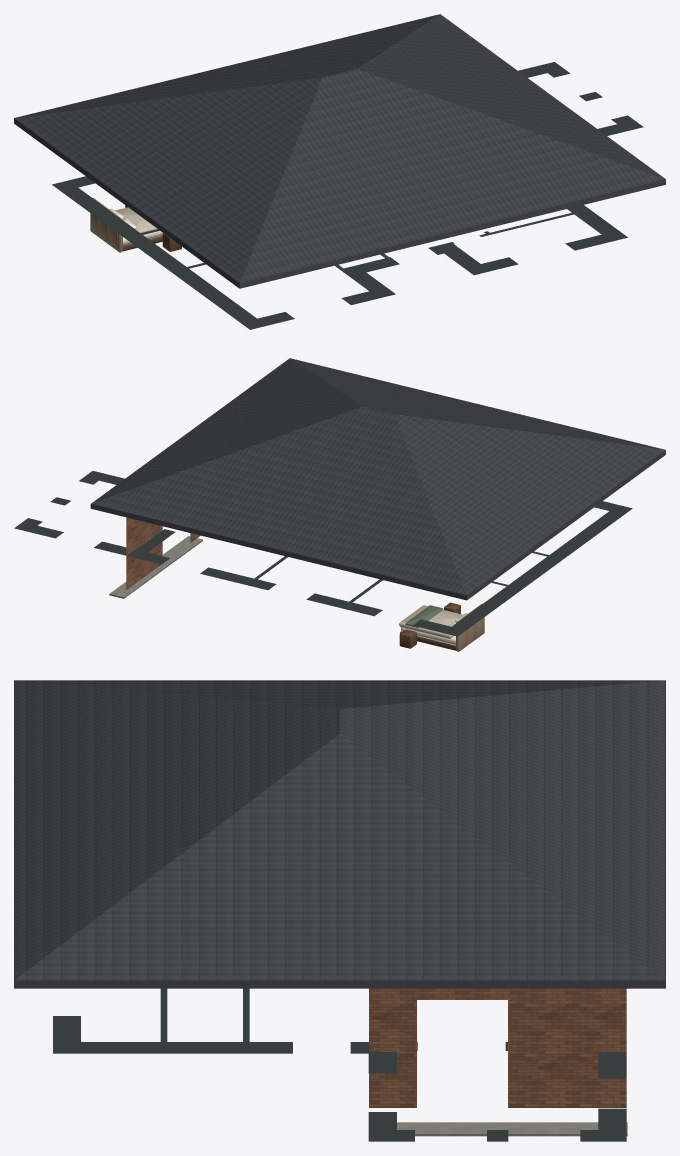
The model's file is Granat-options.glb.
3 renders of one model, top to bottom at view 1: azimuth 30°, elevation 25°; view 2: azimuth 150°, elevation 25°; view 3: azimuth 270°, elevation 25°, orthographic. The views are drawn at different scales.
Parts seen in each view (by area): view 1: RoofAlternate__roof, CutCaps__coal, RoofAlternate__trim, TerrCaps__coal, GuestFurniture__velvet; view 2: RoofAlternate__roof, CutCaps__coal, RoofAlternate__trim, ReturnAlt__facade, TerrCaps__coal, ApronAlt__apron, GuestFurniture__linen, GuestFurniture__walnut, GuestFurniture__velvet; view 3: RoofAlternate__roof, ReturnAlt__facade, RoofAlternate__trim, CutCaps__coal, TerrCaps__coal, ApronAlt__apron.
Boxes of the visible parts, x1=… form: RoofAlternate__roof: x1=14, y1=14, x2=665, y2=282; CutCaps__coal: x1=52, y1=176, x2=627, y2=329; RoofAlternate__trim: x1=14, y1=118, x2=665, y2=288; TerrCaps__coal: x1=518, y1=62, x2=643, y2=135; GuestFurniture__velvet: x1=90, y1=198, x2=122, y2=252; RoofAlternate__roof: x1=91, y1=358, x2=665, y2=595; CutCaps__coal: x1=124, y1=501, x2=632, y2=636; RoofAlternate__trim: x1=90, y1=450, x2=665, y2=600; ReturnAlt__facade: x1=126, y1=517, x2=200, y2=589; TerrCaps__coal: x1=14, y1=471, x2=126, y2=554; ApronAlt__apron: x1=109, y1=536, x2=202, y2=598; GuestFurniture__linen: x1=399, y1=605, x2=462, y2=638; GuestFurniture__walnut: x1=399, y1=602, x2=460, y2=650; GuestFurniture__velvet: x1=456, y1=603, x2=484, y2=651; RoofAlternate__roof: x1=14, y1=680, x2=665, y2=980; ReturnAlt__facade: x1=369, y1=988, x2=626, y2=1107; RoofAlternate__trim: x1=14, y1=980, x2=665, y2=988; CutCaps__coal: x1=53, y1=988, x2=626, y2=1053; TerrCaps__coal: x1=368, y1=1051, x2=626, y2=1141; ApronAlt__apron: x1=397, y1=1122, x2=627, y2=1136.
Bounding box in the file's own units: 15.92 × 5.4 × 11.81.
11 materials, 8 textured.
